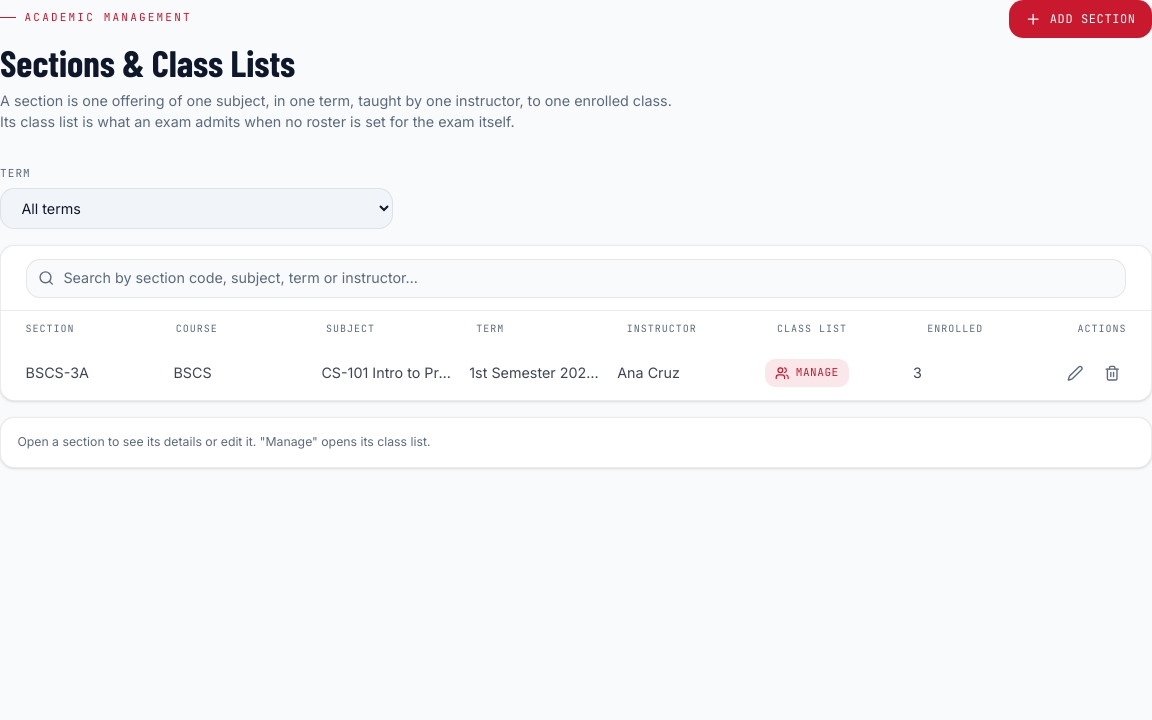
Test: Sections — correcting and removing › surfaces the server's reason for refusing a delete
Click the button named "Delete": click(1112, 373) [1098,359,1126,387]
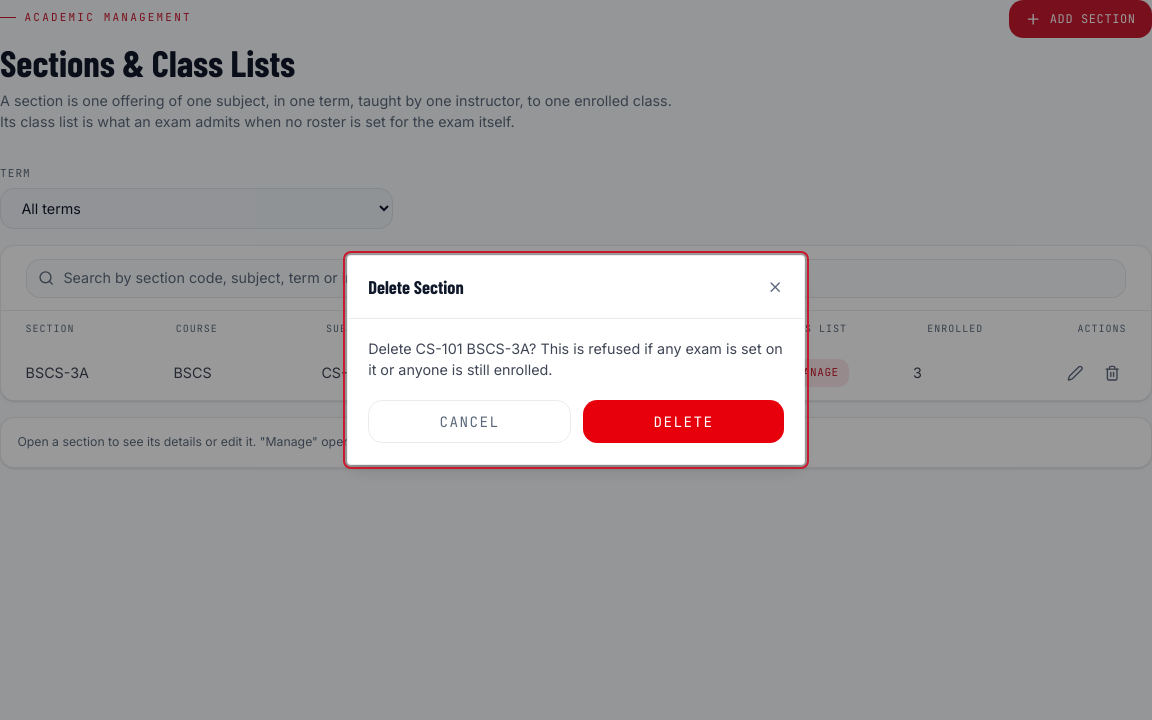
Click the button "Delete": click(683, 422) [583,400,784,443]
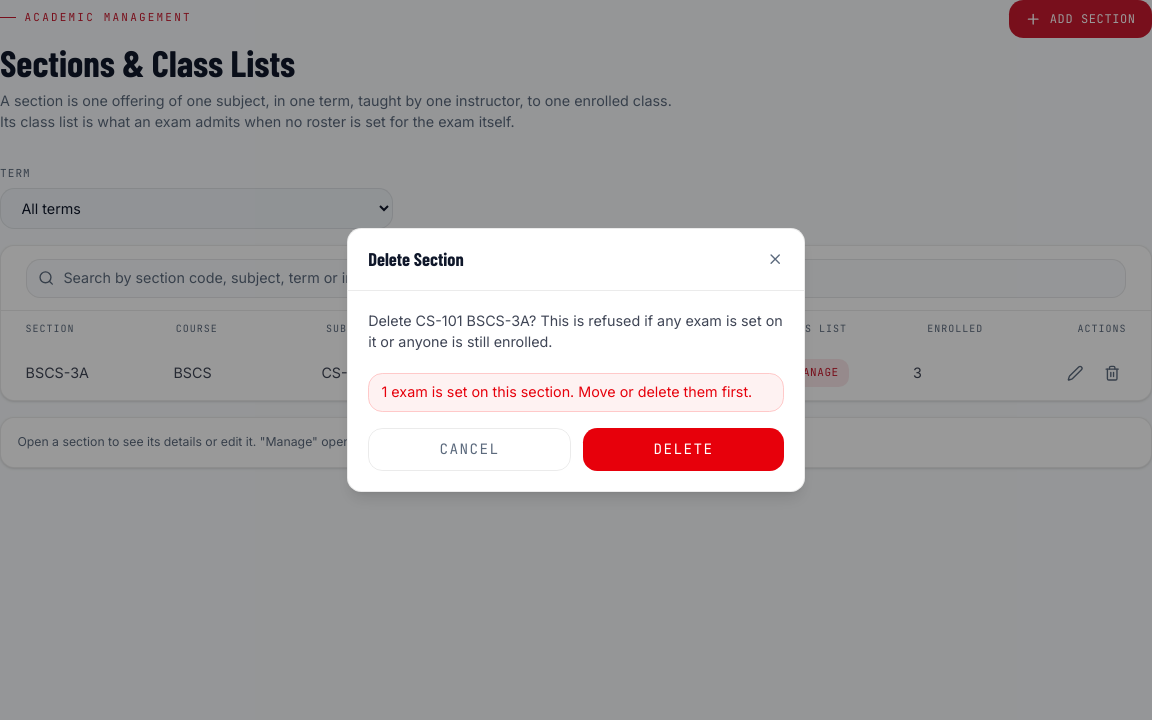
Expected: the text "1 exam is set on this section. Move or delete them first." is shown, [368,373,784,412]
